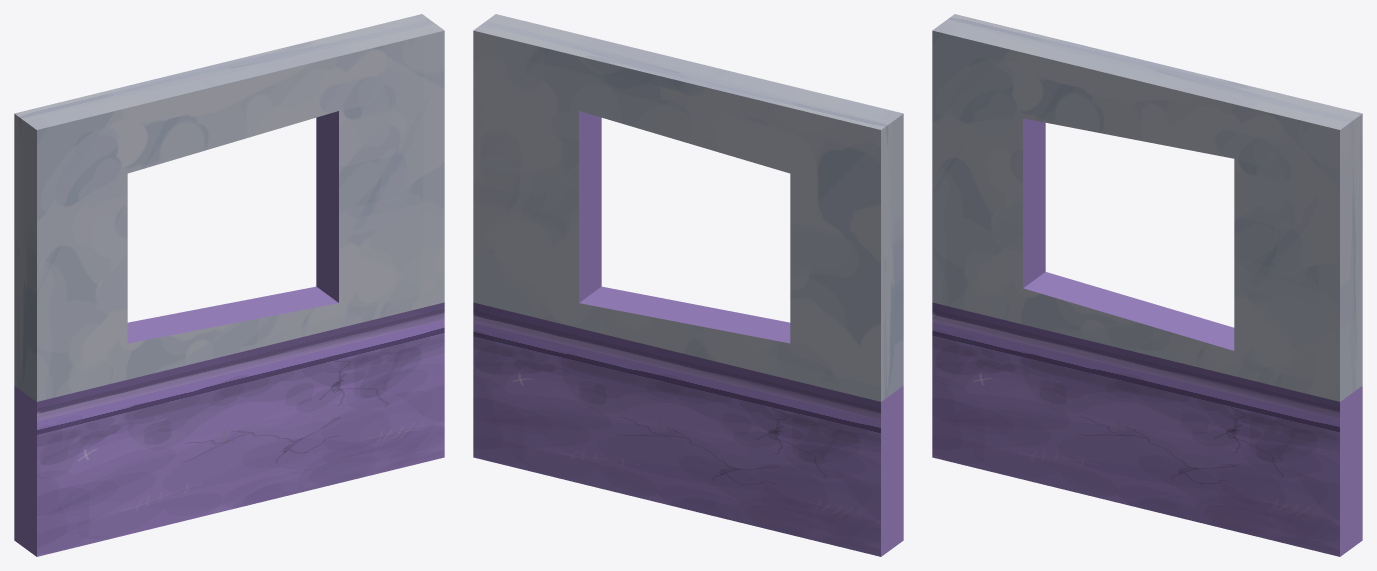
The model's file is ParedVentana.fbx.
3 views of the same model, side by side, from view 1: azimuth 30°, elevation 25°; view 2: azimuth 150°, elevation 25°; view 3: azimuth 330°, elevation 25° (orthographic).
Parts seen in each view (by area): view 1: Cube.027; view 2: Cube.027; view 3: Cube.027.
Boxes of the visible parts, x1,y1,x2,y2 form: Cube.027: (14, 14, 444, 556); Cube.027: (473, 14, 903, 556); Cube.027: (932, 14, 1362, 556).
Bounding box in the file's own units: 1057 × 1057 × 102.
2 materials, 2 textured.
